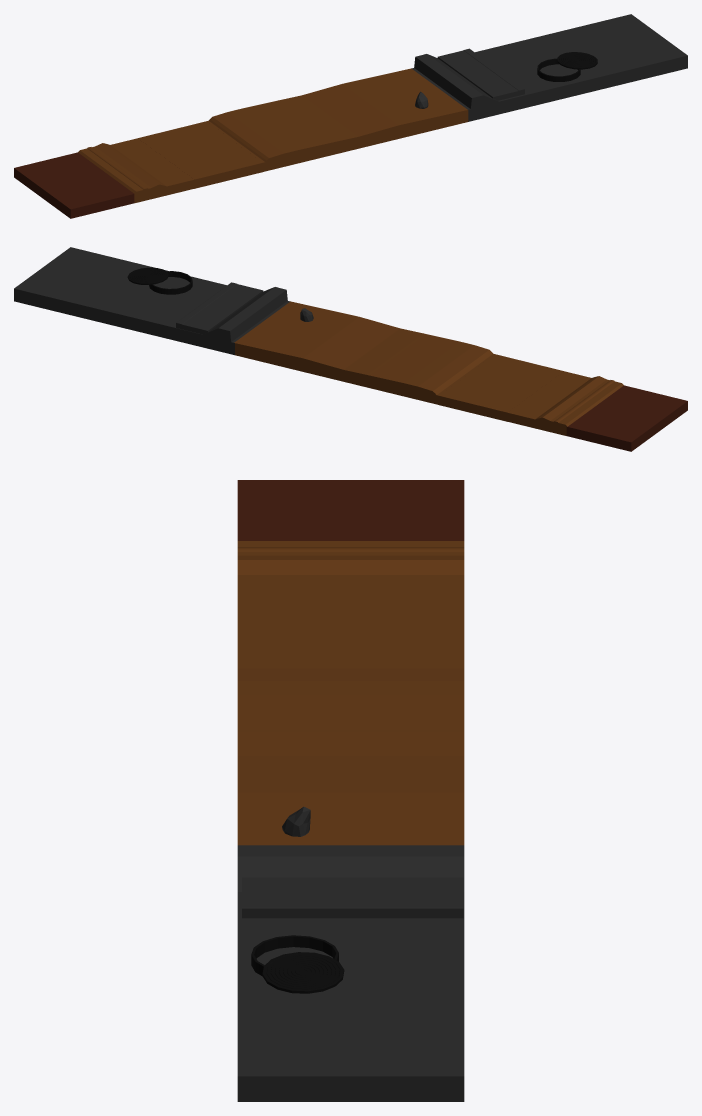
Rendered from map_ground.FBX.
The picture shows the model from 3 angles, top to bottom: view 1: azimuth 30°, elevation 25°; view 2: azimuth 150°, elevation 25°; view 3: azimuth 270°, elevation 25°; orthographic projection. The views are drawn at different scales.
Visible parts, largest first — view 1: 4stage_ground (×6), 1stage_ground1, 3stage_ground7, 2stage_ground9, 4stage_foothold (×2), 3stage_ground6, 3stage_ground3, 2stage_ground8, 3stage_ground5, 3stage_ground1, 3stage_ground2, 2stage_ground5 (+2 smaller); view 2: 4stage_ground (×6), 1stage_ground1, 3stage_ground7, 2stage_ground9, 4stage_foothold (×2), 3stage_ground6, 3stage_ground3, 2stage_ground8, 3stage_ground5, 3stage_ground1, 3stage_ground2, 2stage_ground5 (+2 smaller); view 3: 4stage_ground (×5), 2stage_ground9, 1stage_ground1, 4stage_foothold (×2), 3stage_ground7, 3stage_ground6, 3stage_ground3, 2stage_ground8, 3stage_ground5, 3stage_ground2, 3stage_ground1, 2stage_ground7 (+4 smaller).
Part boxes in pixels (box(x1,y1,x2,y2)): 4stage_ground (×6): box(414, 14, 687, 121); 1stage_ground1: box(14, 152, 134, 218); 3stage_ground7: box(343, 68, 468, 138); 2stage_ground9: box(138, 121, 262, 188); 4stage_foothold (×2): box(437, 48, 597, 100); 3stage_ground6: box(302, 84, 398, 148); 3stage_ground3: box(242, 101, 332, 163); 2stage_ground8: box(110, 138, 197, 195); 3stage_ground5: box(278, 95, 358, 154); 3stage_ground1: box(213, 112, 283, 170); 3stage_ground2: box(227, 108, 298, 166); 2stage_ground5: box(95, 143, 159, 198); 4stage_ground (×6): box(14, 247, 287, 354); 1stage_ground1: box(566, 385, 687, 451); 3stage_ground7: box(234, 301, 358, 371); 2stage_ground9: box(438, 354, 563, 421); 4stage_foothold (×2): box(127, 267, 263, 334); 3stage_ground6: box(303, 317, 399, 381); 3stage_ground3: box(369, 334, 459, 396); 2stage_ground8: box(506, 371, 591, 428); 3stage_ground5: box(343, 328, 423, 387); 3stage_ground1: box(418, 345, 488, 403); 3stage_ground2: box(403, 341, 474, 399); 2stage_ground5: box(542, 376, 606, 431); 4stage_ground (×5): box(237, 845, 464, 1101); 2stage_ground9: box(237, 602, 464, 668); 1stage_ground1: box(237, 480, 464, 540); 4stage_foothold (×2): box(242, 877, 463, 993); 3stage_ground7: box(237, 792, 464, 845); 3stage_ground6: box(237, 756, 464, 792); 3stage_ground3: box(237, 695, 464, 729); 2stage_ground8: box(237, 575, 464, 601); 3stage_ground5: box(237, 732, 464, 755); 3stage_ground2: box(237, 681, 464, 695); 3stage_ground1: box(237, 668, 464, 680); 2stage_ground7: box(237, 567, 464, 574).
Size of the model in its own units: 13033 by 509 by 2072.
